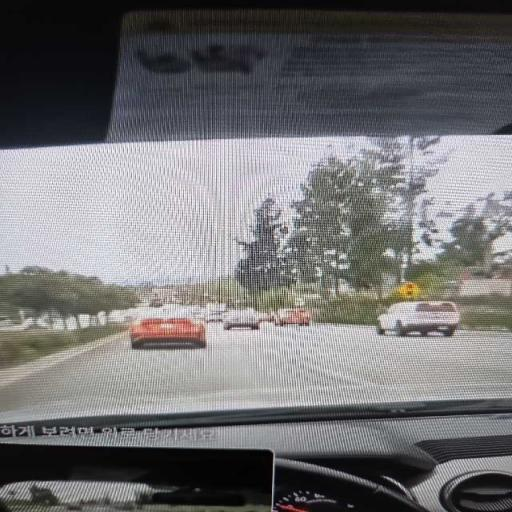car: (377, 301, 460, 336), (130, 311, 206, 348), (223, 309, 261, 330), (275, 308, 311, 326), (204, 310, 223, 322), (260, 313, 274, 322), (149, 299, 163, 307)
lane: (0, 324, 511, 417)
